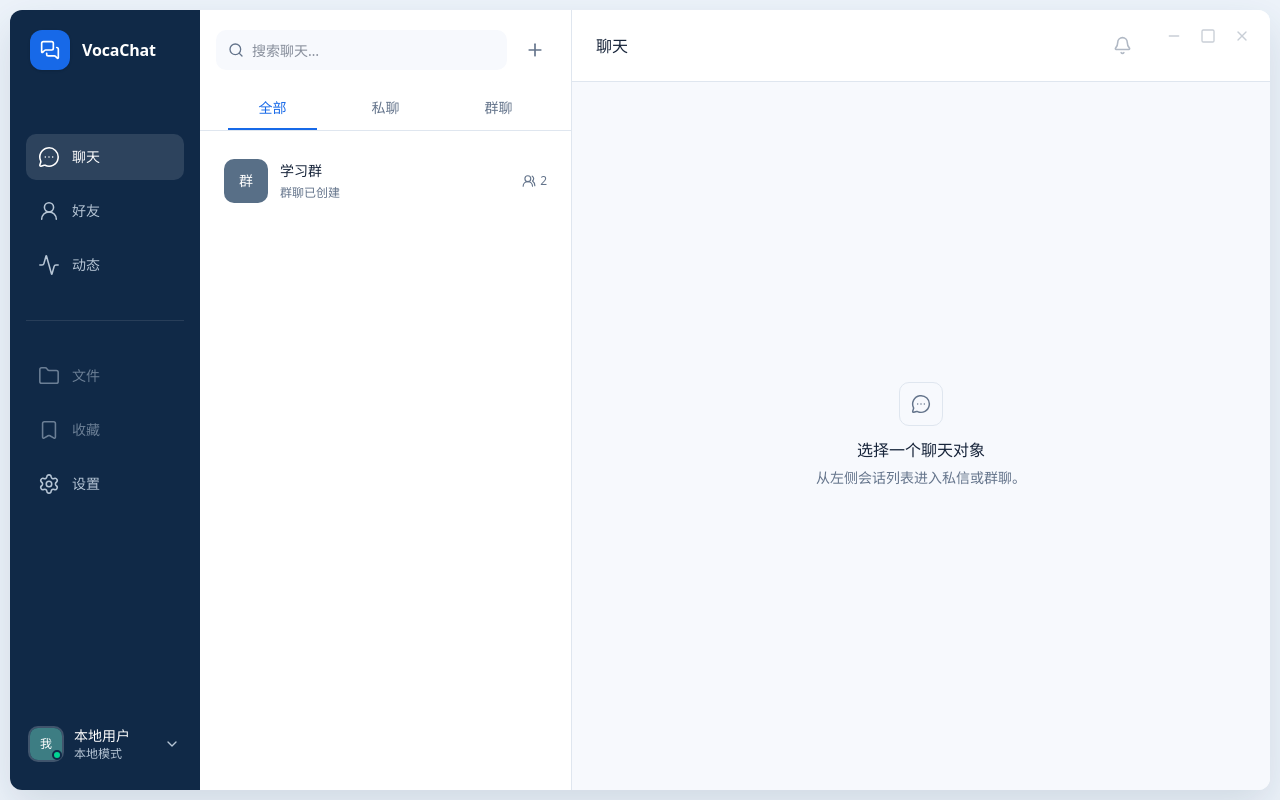
Test case: VocaChatApp › 从会话列表进入创建群聊流程
Click the button named "创建群聊" at (535, 50), box x1=515 y1=30 x2=555 y2=70
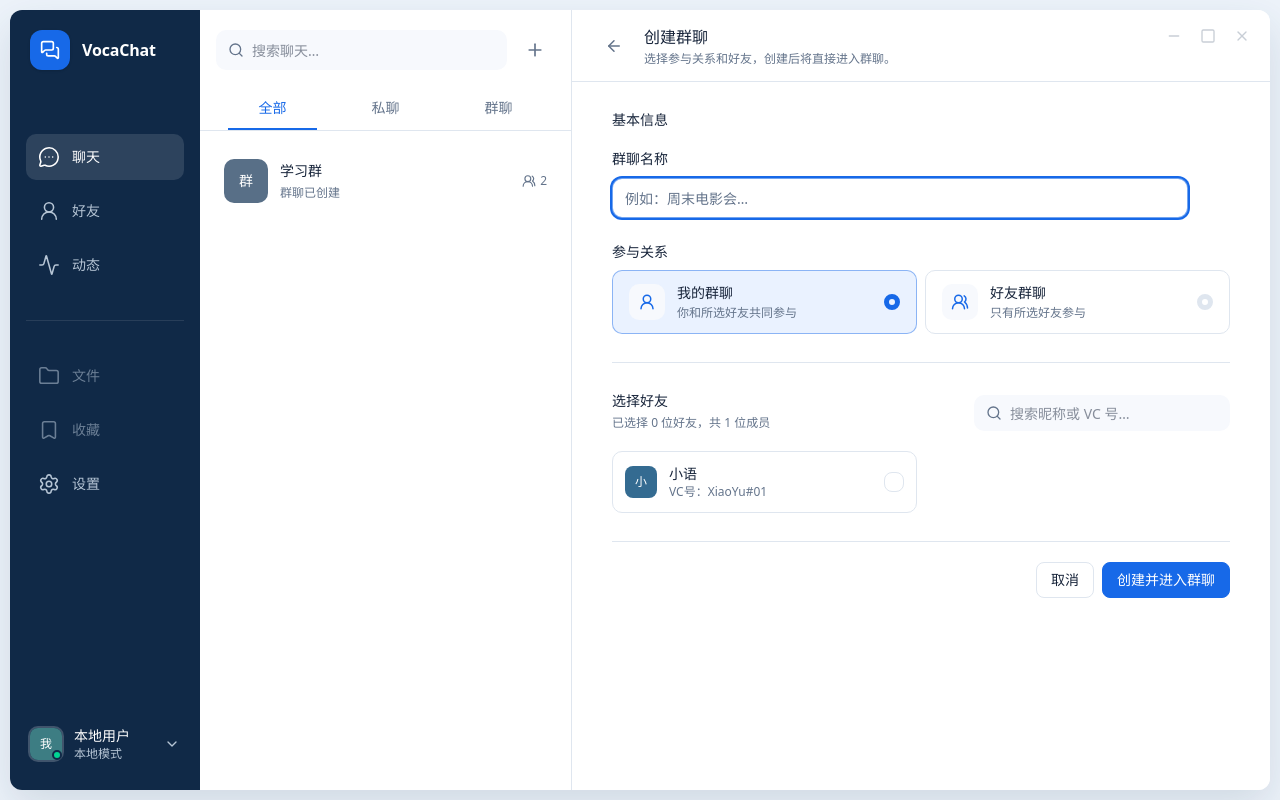
expect the heading "创建群聊" is shown: met, box x1=644 y1=26 x2=708 y2=48
expect the radio button labelled "我的群聊 你和所选好友共同参与" is checked: met, box x1=612 y1=270 x2=917 y2=334
expect the checkbox labelled "小 小语 VC号：XiaoYu#01" is shown: met, box x1=612 y1=451 x2=917 y2=513
